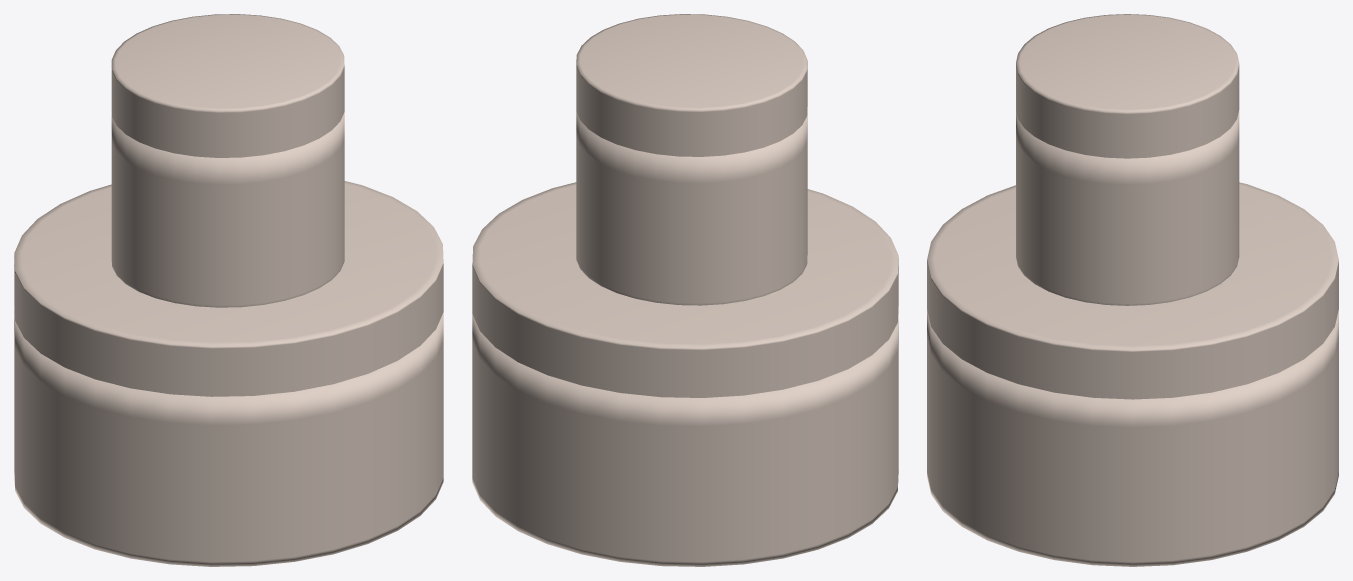
File: 2-tier-white-none-none.glb
3 renders of one model, left to right at view 1: azimuth 30°, elevation 25°; view 2: azimuth 150°, elevation 25°; view 3: azimuth 270°, elevation 25°, orthographic.
Visible parts, largest first — view 1: Cylinder.023, Cylinder.013; view 2: Cylinder.023, Cylinder.013; view 3: Cylinder.023, Cylinder.013.
Boxes of the visible parts, x1,y1,x2,y2 form: Cylinder.023: [14, 181, 443, 566]; Cylinder.013: [111, 14, 344, 307]; Cylinder.023: [472, 182, 898, 566]; Cylinder.013: [576, 14, 807, 305]; Cylinder.023: [927, 182, 1338, 566]; Cylinder.013: [1016, 14, 1239, 305].
Bounding box in the file's own units: 3.4 × 3.61 × 3.27.
